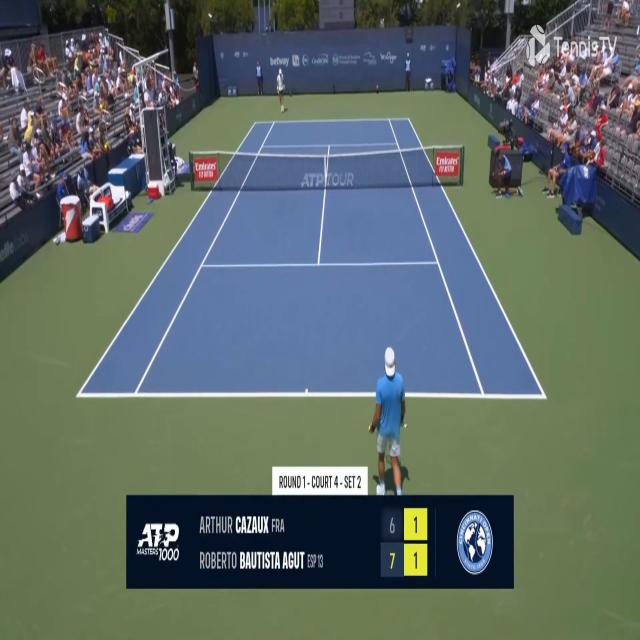tennis-player: (368, 342, 410, 495), (276, 68, 287, 114)
